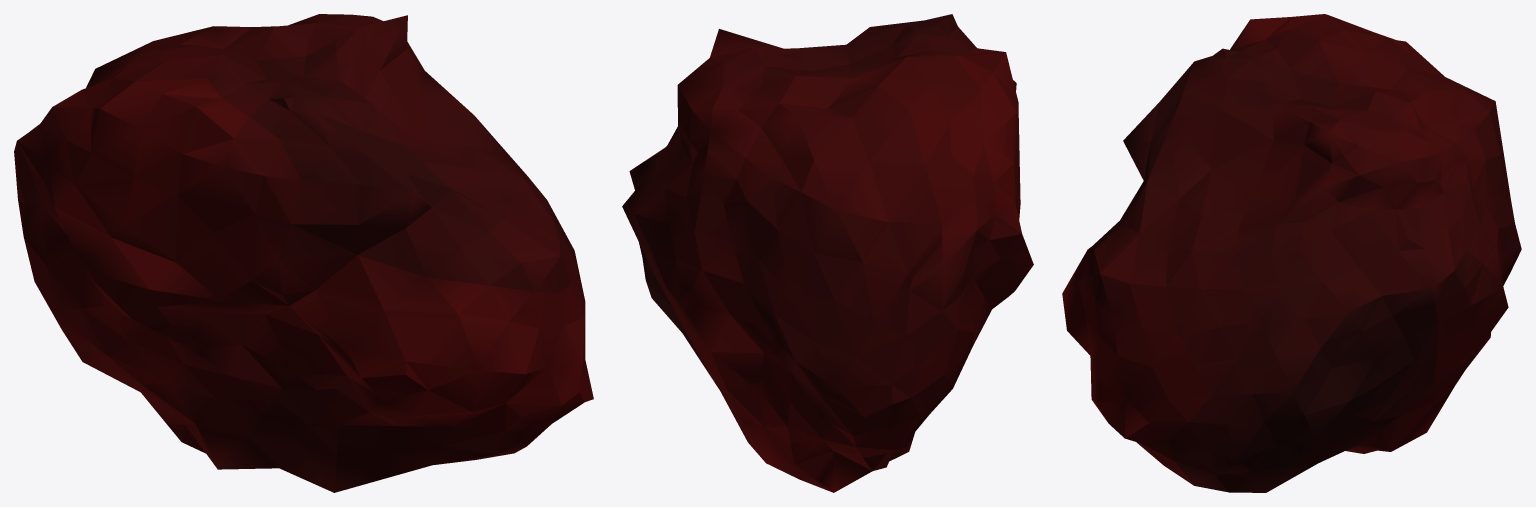
The model's file is geology-rocks-asteroidhuge_v7.fbx.
The picture shows the model from 3 angles, left to right: view 1: azimuth 30°, elevation 25°; view 2: azimuth 150°, elevation 25°; view 3: azimuth 270°, elevation 25°; orthographic projection. The views are drawn at different scales.
Parts seen in each view (by area): view 1: AsteroidHuge_v7; view 2: AsteroidHuge_v7; view 3: AsteroidHuge_v7.
Boxes of the visible parts, x1,y1,x2,y2 form: AsteroidHuge_v7: (14, 14, 593, 492); AsteroidHuge_v7: (622, 14, 1033, 492); AsteroidHuge_v7: (1062, 14, 1521, 492).
Bounding box in the file's own units: 1.92 × 1.78 × 1.94.
